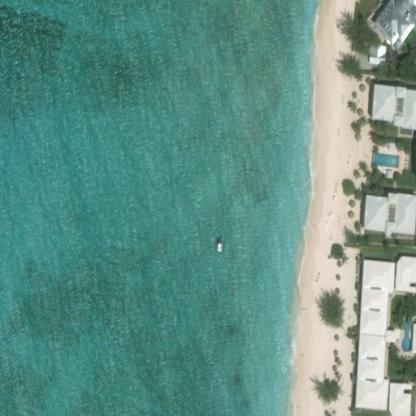ship: (210, 232, 226, 258)
